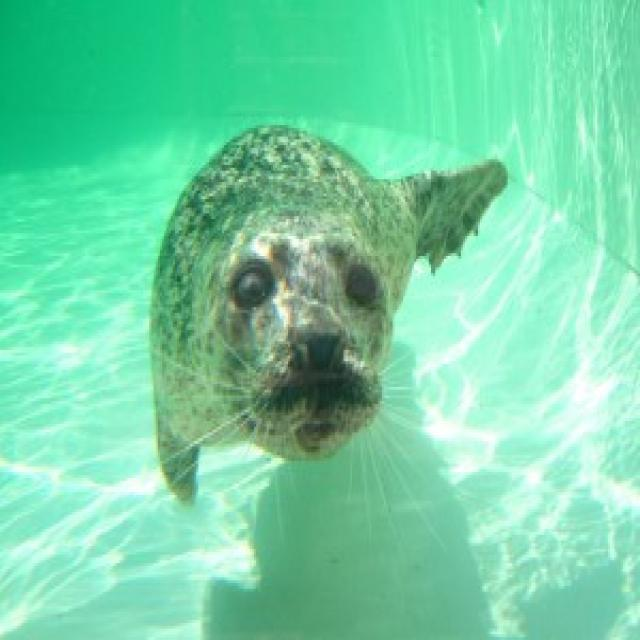Seal: (125, 110, 523, 552)
